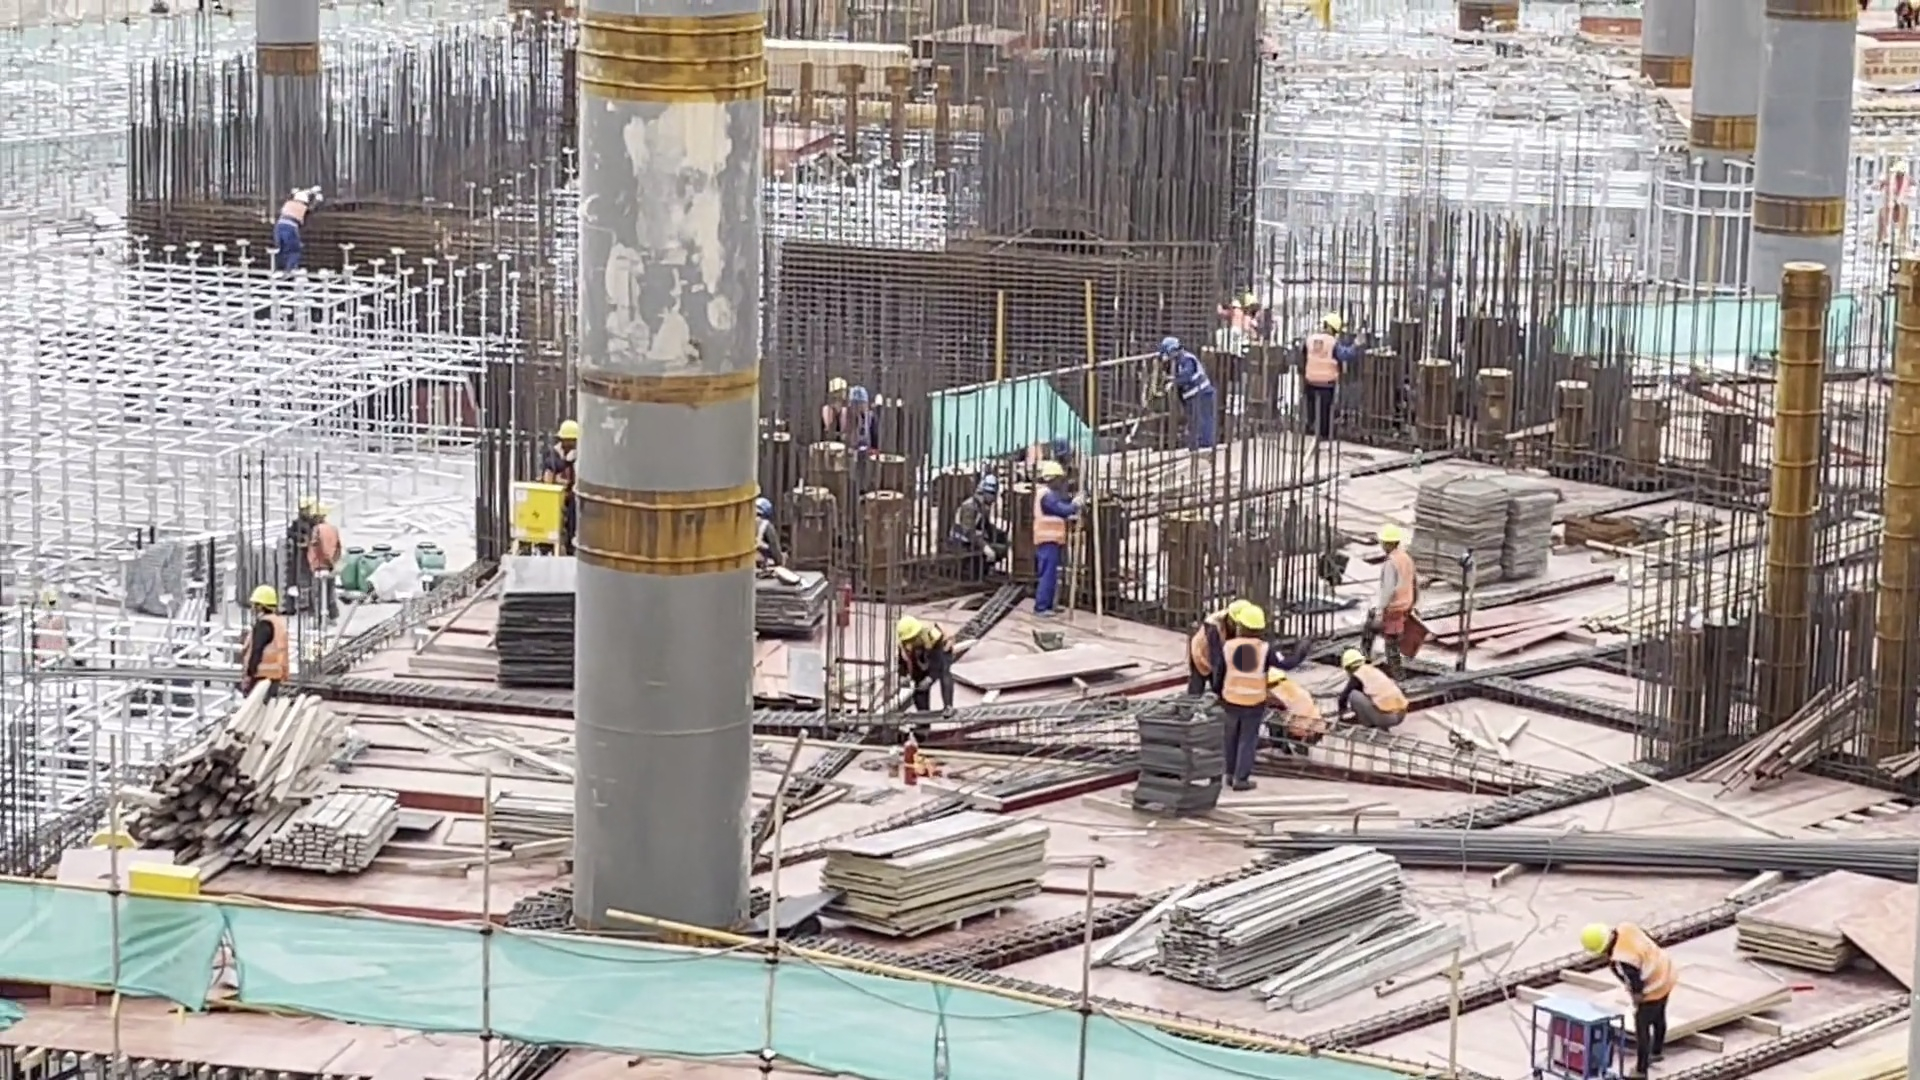helmet: (1580, 921, 1610, 956), (1239, 605, 1268, 632), (895, 614, 921, 643), (1338, 649, 1367, 670), (248, 585, 277, 607), (1379, 522, 1404, 544), (555, 421, 578, 439)
person: (1573, 905, 1676, 1080), (1217, 603, 1278, 792), (1033, 457, 1089, 619), (1155, 328, 1226, 454), (1360, 521, 1411, 674), (1289, 312, 1348, 443), (1331, 641, 1409, 739), (891, 610, 964, 712), (944, 466, 1006, 565), (240, 577, 289, 690), (1268, 666, 1328, 756), (269, 179, 324, 263), (308, 501, 346, 617), (1188, 588, 1226, 696), (1215, 294, 1258, 361), (749, 496, 788, 568), (540, 417, 582, 481), (813, 372, 848, 441), (846, 379, 877, 448), (284, 492, 309, 576)
vest: (1612, 926, 1678, 1004), (1226, 638, 1271, 711), (1273, 680, 1327, 739), (250, 612, 290, 681), (1358, 667, 1412, 714), (1382, 546, 1418, 615), (1031, 480, 1068, 546), (1188, 609, 1224, 677), (1303, 331, 1338, 389), (1176, 350, 1214, 400)
